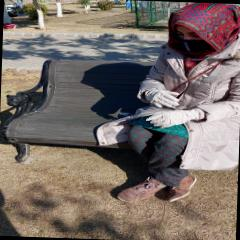gloved: (148, 110, 194, 130), (148, 88, 178, 108)
